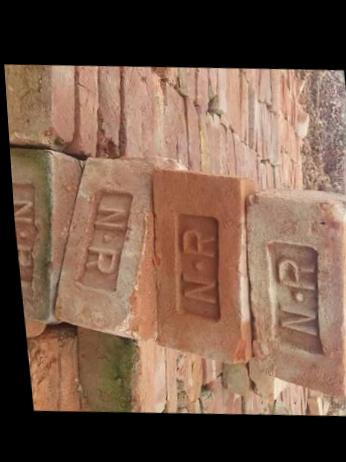brick: (137, 166, 258, 369), (242, 193, 346, 400), (40, 156, 160, 330), (10, 147, 64, 321), (72, 328, 136, 414), (4, 62, 55, 139)
